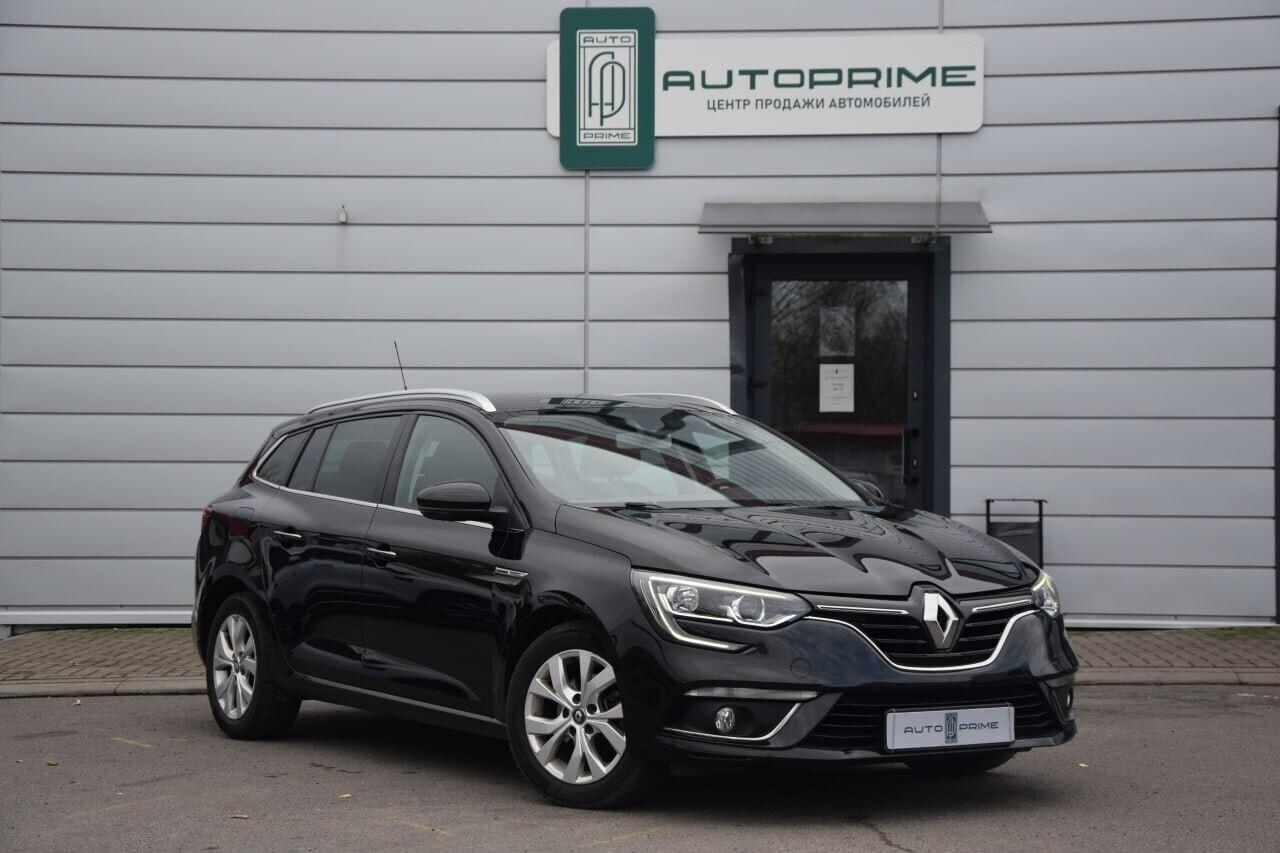Megane_2016-2020: (190, 391, 1077, 806)
